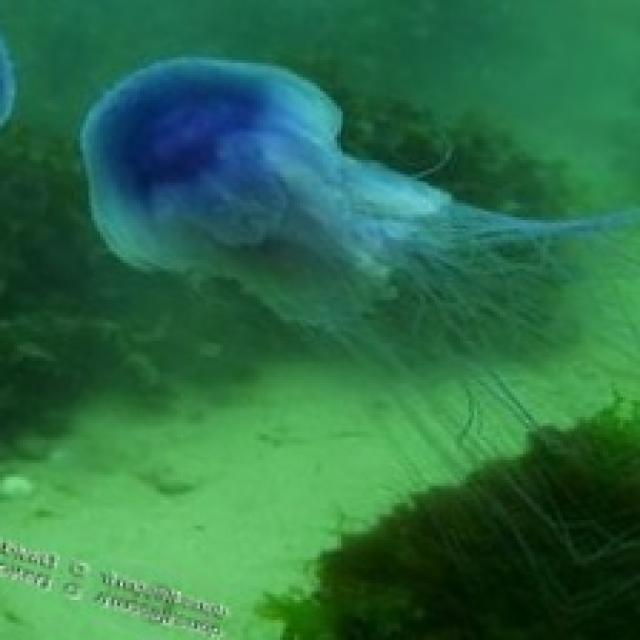Jellyfish: (62, 54, 620, 400)
